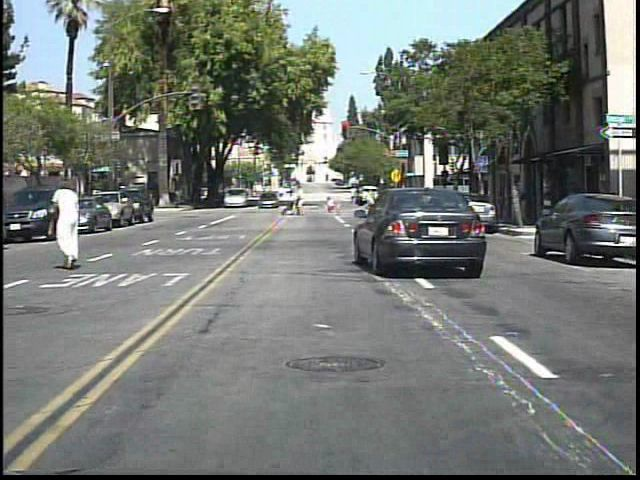person: (48, 179, 91, 272), (510, 176, 534, 228), (294, 183, 310, 219)
